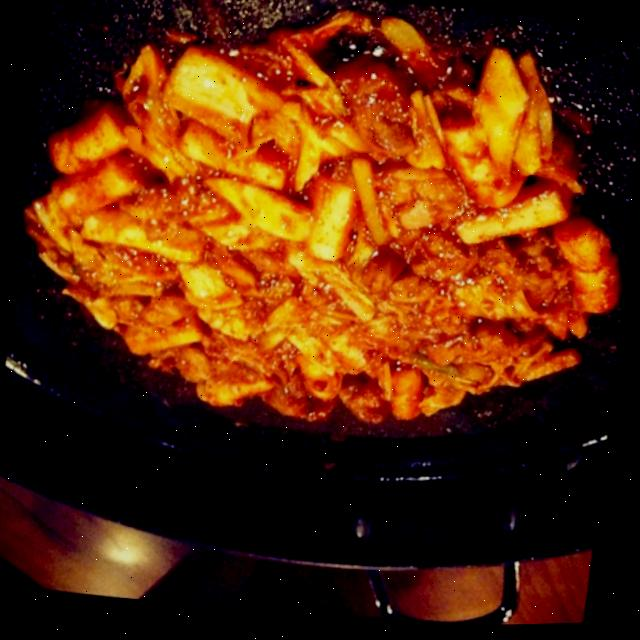鸡肉料理 含炸鸡: (26, 9, 631, 492)
